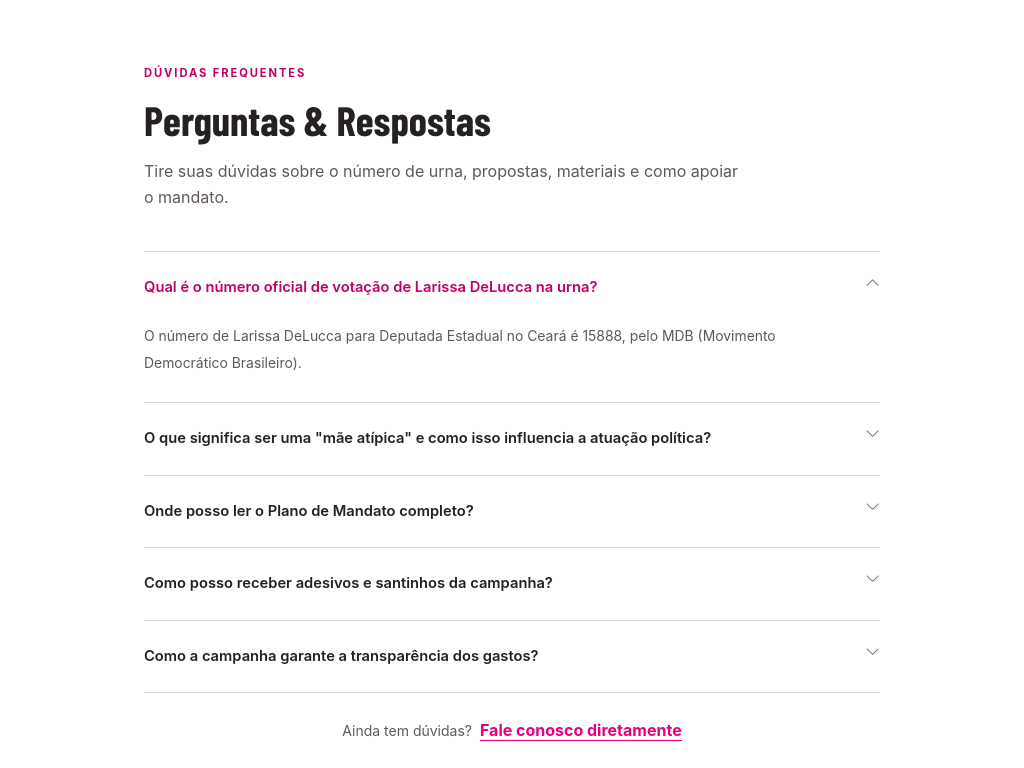
it: HomePage — composição editorial › renders FAQ section and toggles accordion items
(page scrolled)
Expected: the heading "Perguntas & Respostas" is shown, [144, 95, 491, 144]
Expected: the text "O número de Larissa DeLucca para Deputada Estadual no Ceará é 15888" is shown, [144, 328, 776, 371]
Note: Toggle second question
Click the button "O que significa ser uma \"mãe atípica\"".
click(512, 439)  # box [144, 403, 880, 475]
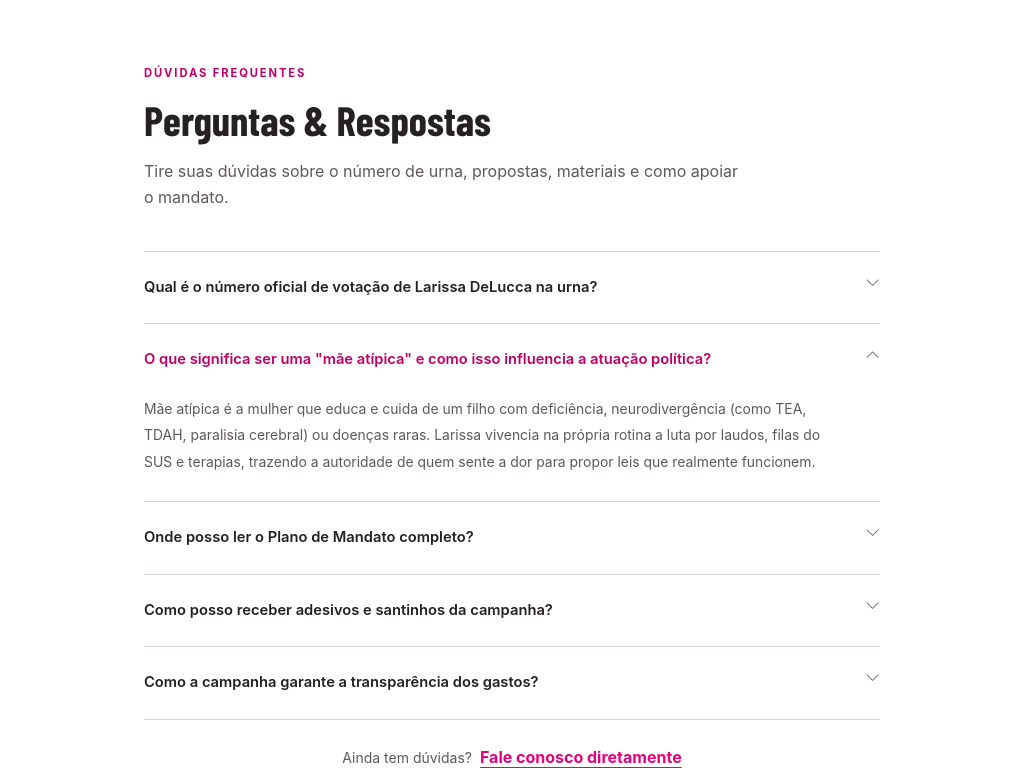
Expected: the text "Mãe atípica é a mulher que educa e cuida de um filho" is shown, [144, 401, 820, 470]
